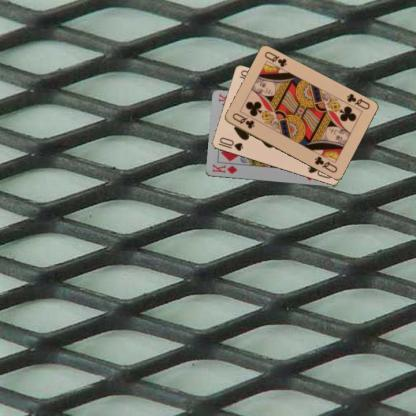10s: (216, 135, 245, 152)
Kd: (210, 162, 238, 175)
Qc: (344, 91, 371, 111), (230, 110, 256, 130)
